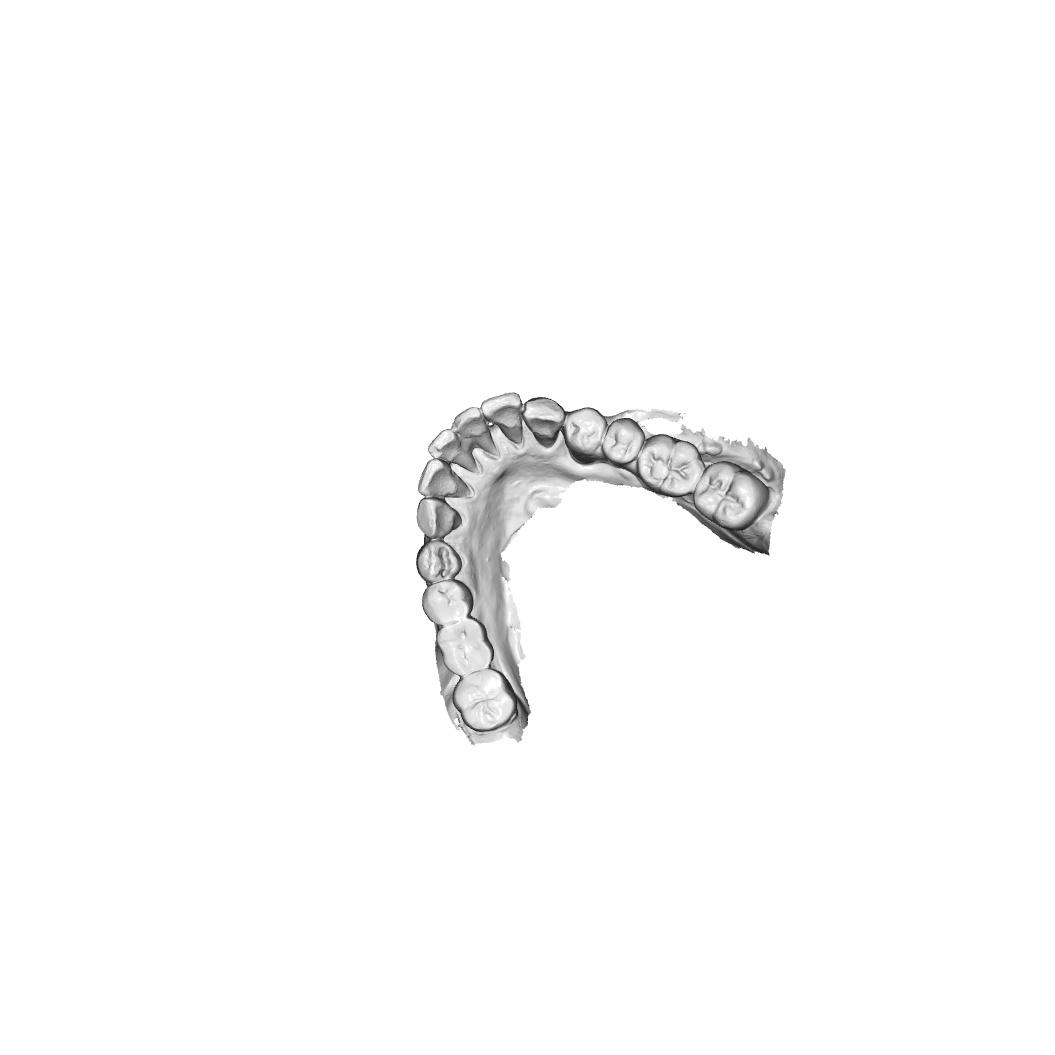canine: (521, 396, 564, 449), (416, 497, 462, 540)
incisor: (416, 457, 470, 499), (480, 391, 522, 430), (427, 428, 462, 463), (451, 405, 486, 438)
molar: (692, 460, 771, 532), (635, 432, 706, 499), (451, 667, 519, 733), (434, 615, 495, 677)
premolar: (563, 406, 608, 466), (420, 579, 474, 627), (415, 539, 464, 584), (602, 417, 644, 469)
